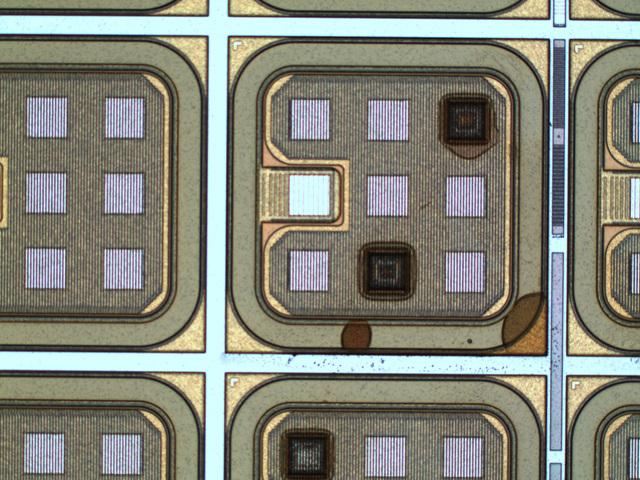SEZ BURNT: (279, 92, 502, 480)
